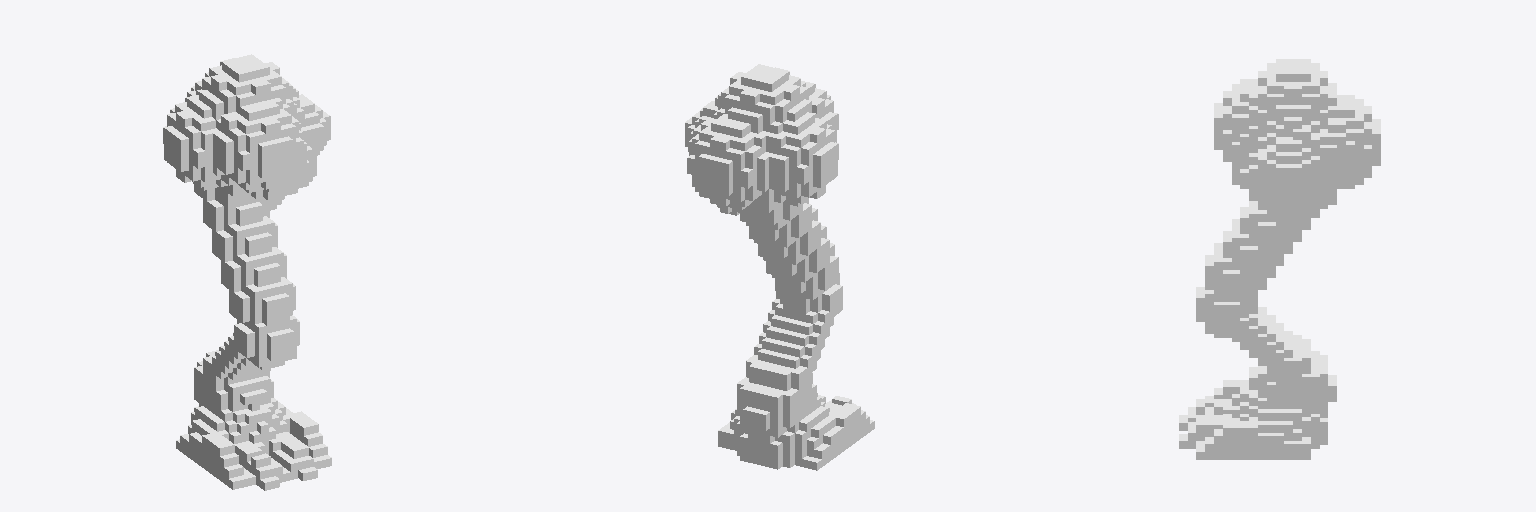
Rendered from BackLegLeft.obj.
3 renders of one model, left to right at view 1: azimuth 30°, elevation 25°; view 2: azimuth 150°, elevation 25°; view 3: azimuth 270°, elevation 25°, orthographic.
Size of the model in its own units: 19 by 47 by 23.